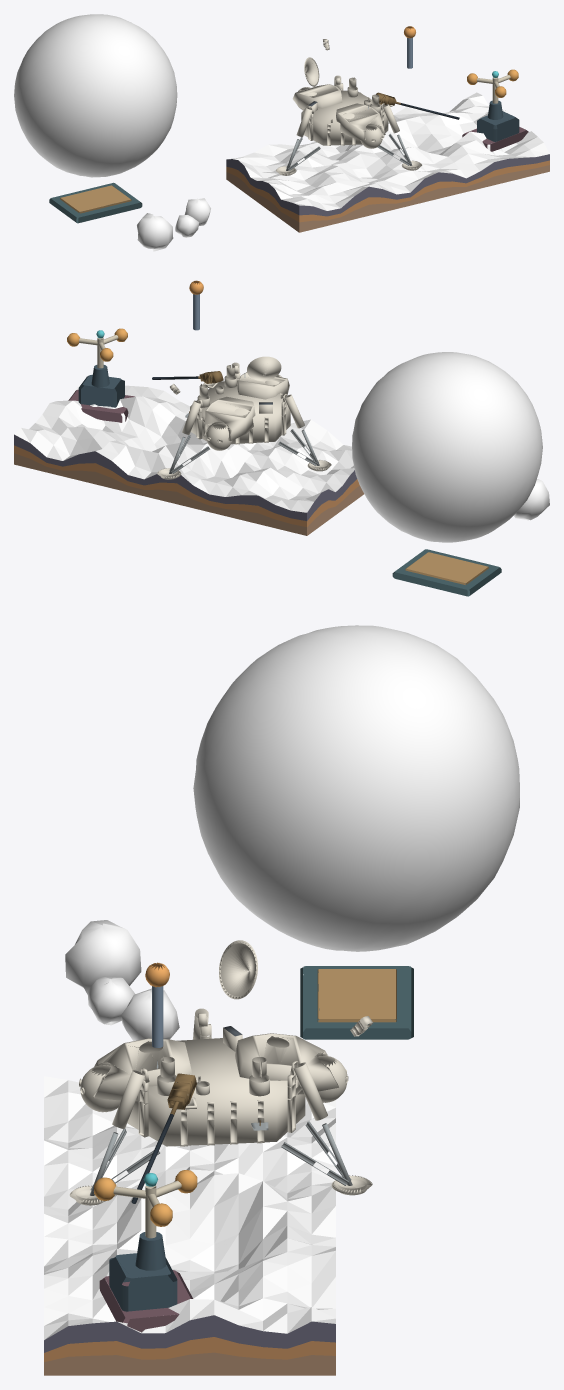
File: luna.obj
3 views of the same model, one above another, from view 1: azimuth 30°, elevation 25°; view 2: azimuth 150°, elevation 25°; view 3: azimuth 270°, elevation 25° (orthographic). The views are drawn at different scales.
Parts seen in each view (by area): view 1: luna; view 2: luna; view 3: luna.
Boxes of the visible parts, <box> form: luna: <box>14,14,549,251</box>; luna: <box>14,280,549,596</box>; luna: <box>44,625,519,1375</box>.
Bounding box in the file's own units: 1.59 × 0.6252 × 0.7318.
